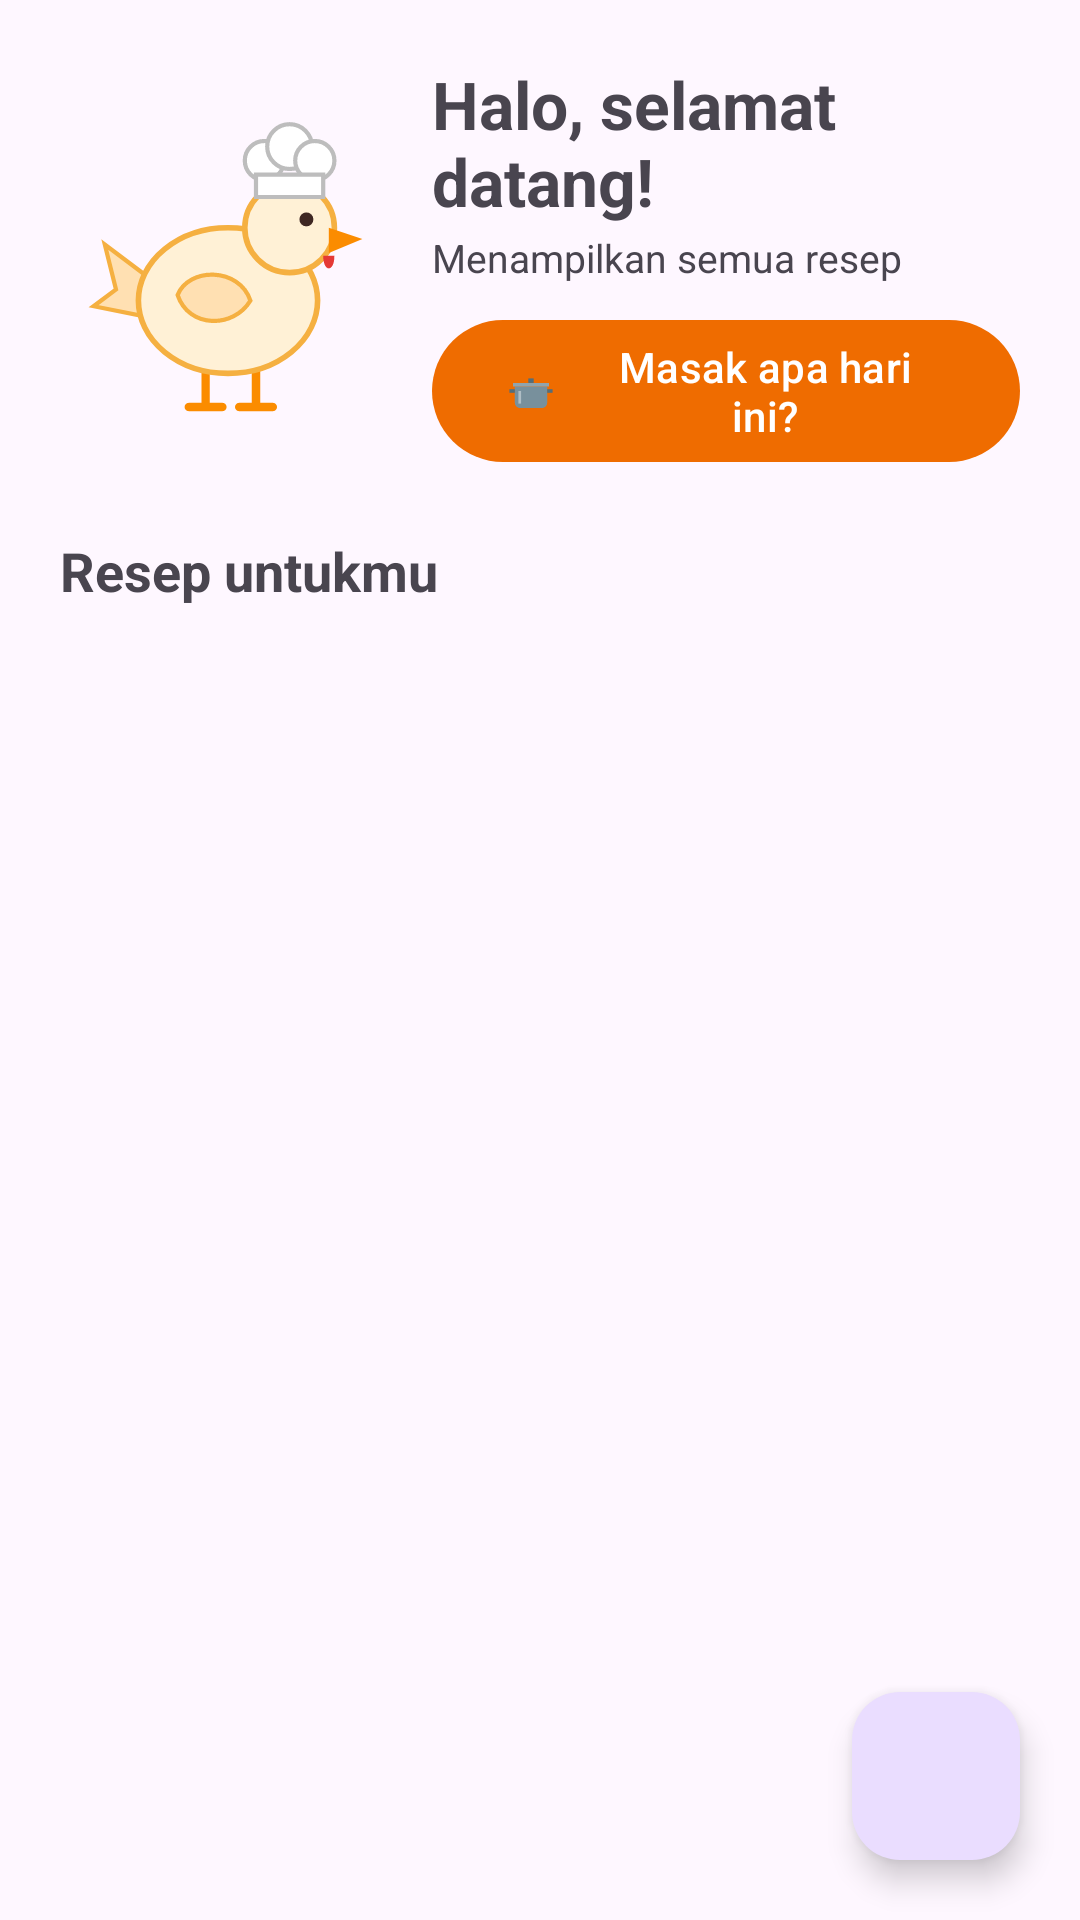

Icons on this 1080 × 1920 Android screen, each with its box as (x1, y1, x2, y2):
Maskot ayam koki: (89, 122, 362, 412)
